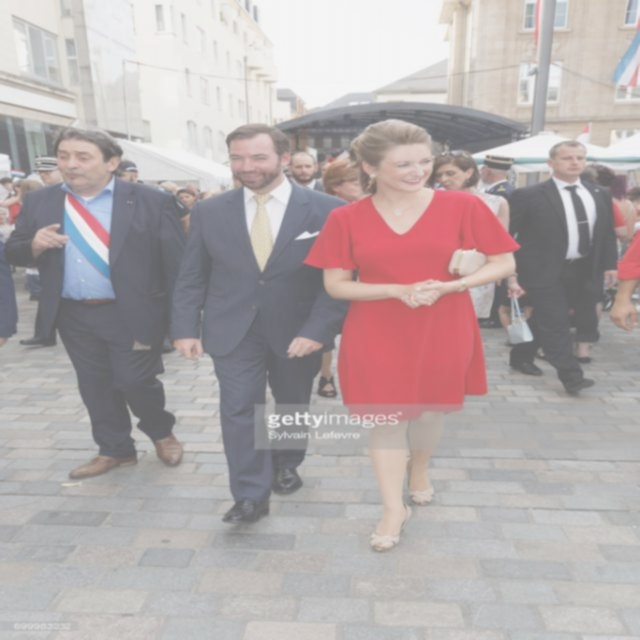pessoa: (298, 117, 523, 557), (168, 124, 358, 524), (0, 125, 193, 482), (498, 140, 620, 396), (534, 164, 631, 364), (423, 150, 528, 320), (316, 158, 366, 400), (476, 152, 518, 330), (112, 160, 193, 240), (606, 169, 639, 334), (0, 175, 23, 347), (288, 152, 326, 192), (316, 148, 351, 188), (28, 154, 66, 186), (196, 182, 242, 198), (175, 188, 200, 210), (138, 180, 176, 193), (24, 170, 40, 192), (282, 166, 295, 179)
